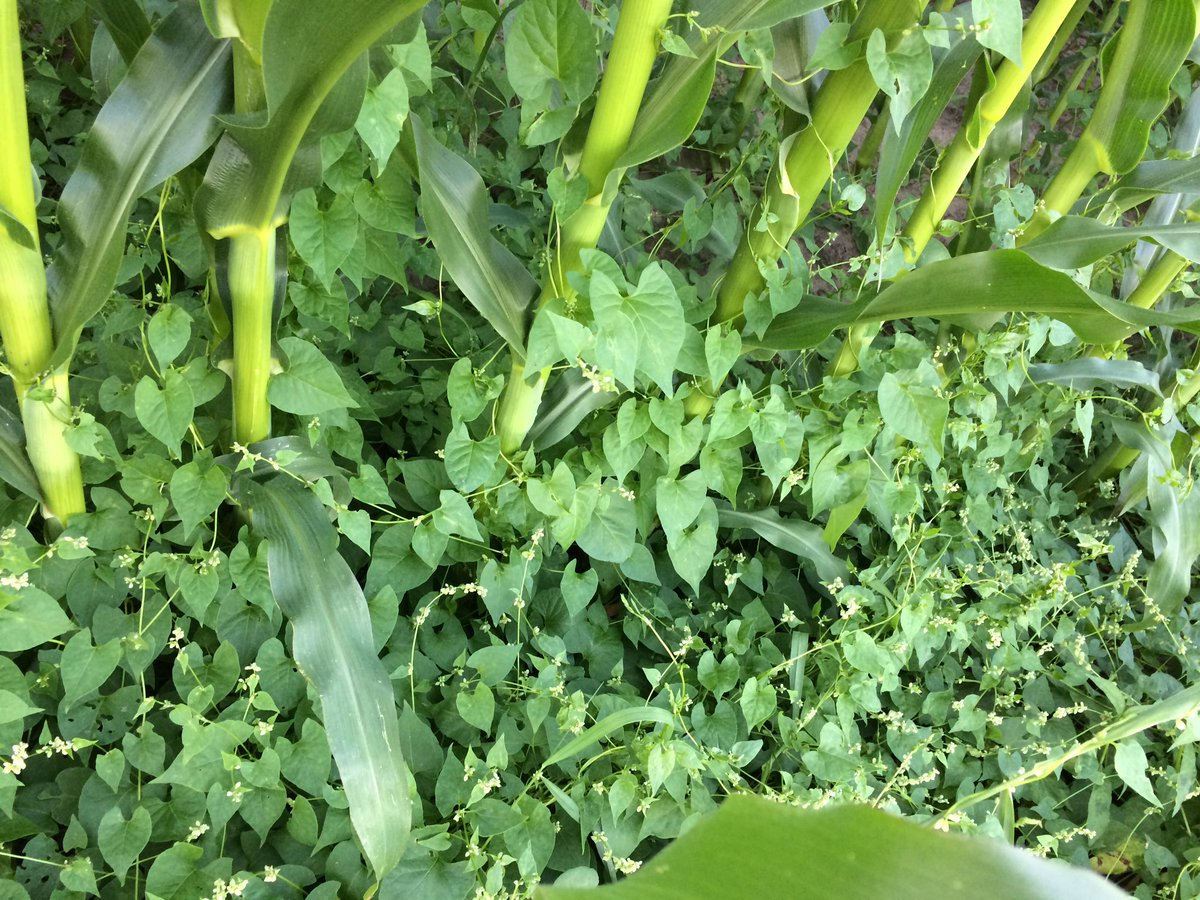haagwinde: (499, 210, 679, 432), (423, 421, 645, 587), (128, 307, 231, 558), (243, 324, 373, 440), (849, 349, 971, 472), (683, 633, 789, 758), (428, 629, 533, 747), (649, 458, 729, 604), (280, 176, 369, 295), (83, 795, 160, 884), (697, 307, 748, 406)
